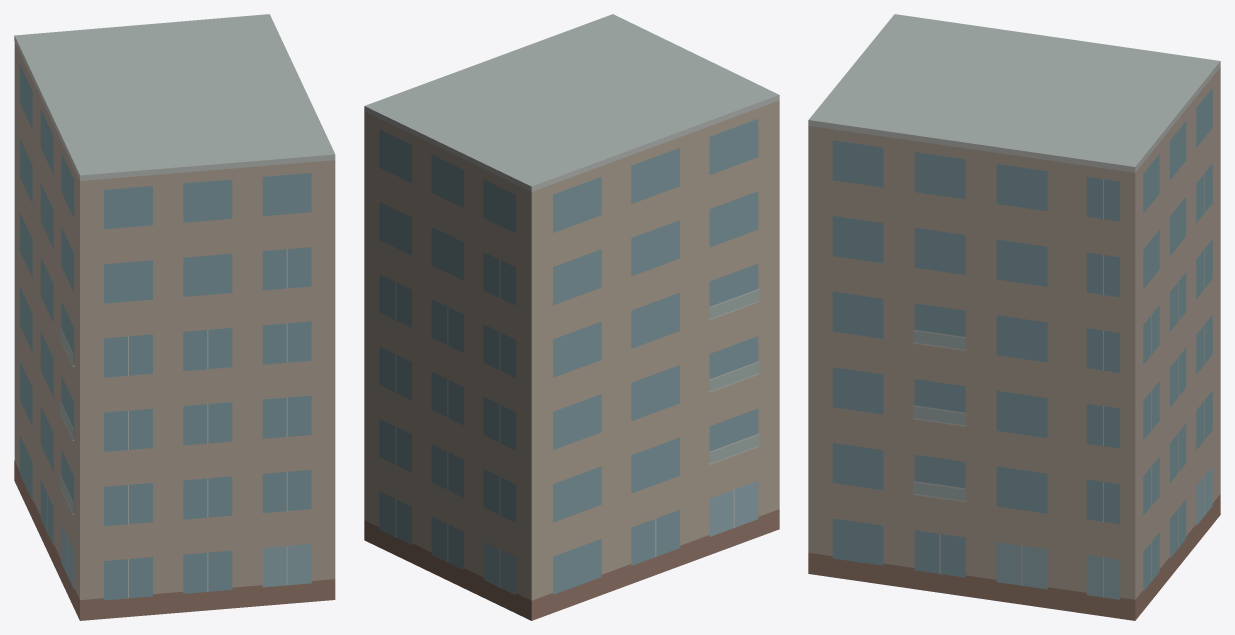
The model's file is survey-upis-32874328.glb.
The picture shows the model from 3 angles, left to right: view 1: azimuth 30°, elevation 25°; view 2: azimuth 150°, elevation 25°; view 3: azimuth 270°, elevation 25°; orthographic projection. The views are drawn at different scales.
Parts seen in each view (by area): view 1: survey-upis-32874328.tmp; view 2: survey-upis-32874328.tmp; view 3: survey-upis-32874328.tmp.
Boxes of the visible parts, bbox=[...] form: survey-upis-32874328.tmp: bbox=[14, 14, 335, 620]; survey-upis-32874328.tmp: bbox=[364, 14, 779, 620]; survey-upis-32874328.tmp: bbox=[808, 14, 1220, 620].
Size of the model in its own units: 14.04 by 19.4 by 15.98.
